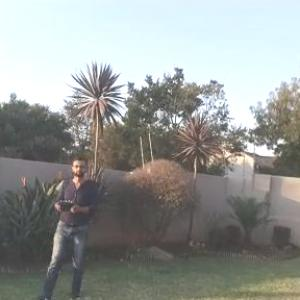follow: (31, 147, 102, 299)
